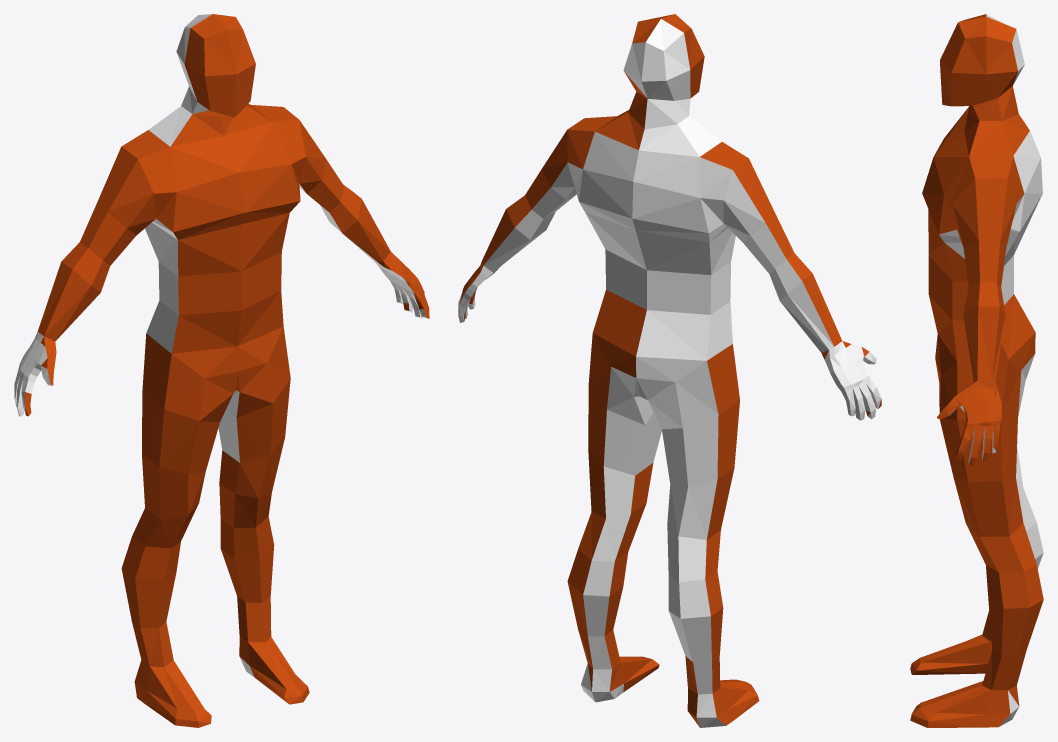
The model's file is low_poly_man1.obj.
The picture shows the model from 3 angles, left to right: view 1: azimuth 30°, elevation 25°; view 2: azimuth 150°, elevation 25°; view 3: azimuth 270°, elevation 25°; orthographic projection. The views are drawn at different scales.
Visible parts, largest first — view 1: Cube.001; view 2: Cube.001; view 3: Cube.001.
Boxes of the visible parts, left/top/right/bottom form: Cube.001: left=14, top=14, right=429, bottom=727; Cube.001: left=458, top=14, right=881, bottom=727; Cube.001: left=910, top=14, right=1043, bottom=727.
Bounding box in the file's own units: 3.52 × 5.57 × 0.9944.
